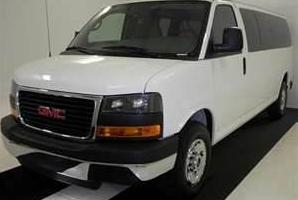front_view: (1, 78, 181, 186)
headlight: (92, 88, 179, 151)
side_glass: (212, 8, 289, 56)
